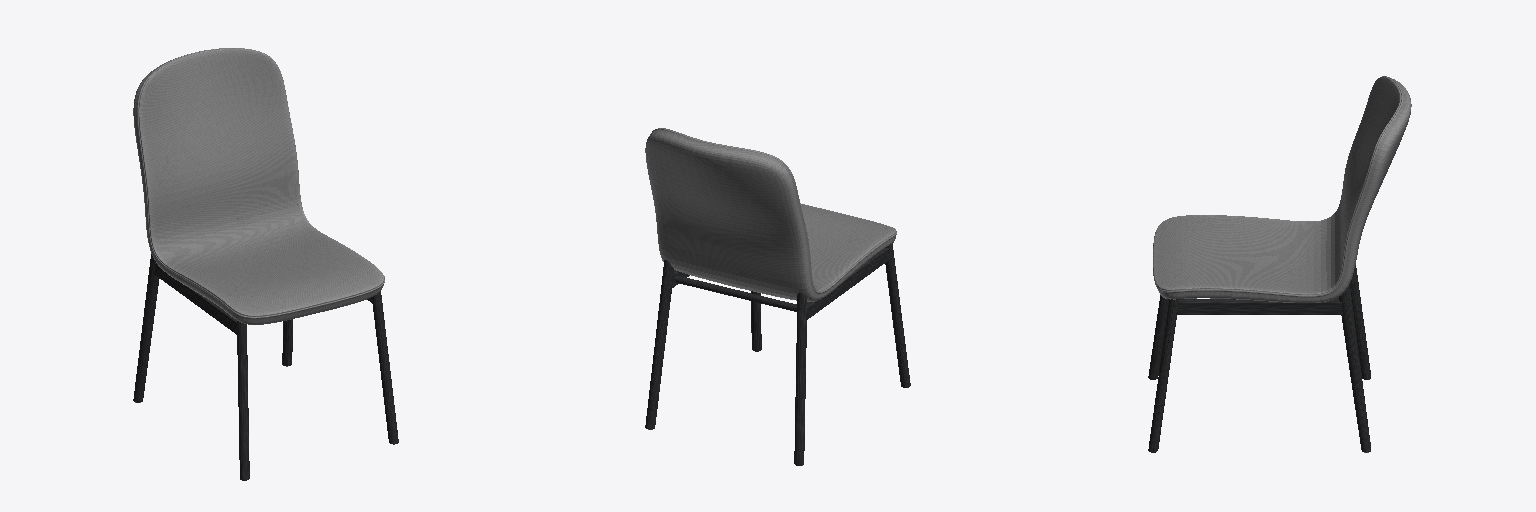
3 views of the same model, side by side, from view 1: azimuth 30°, elevation 25°; view 2: azimuth 150°, elevation 25°; view 3: azimuth 270°, elevation 25° (orthographic).
Visible parts, largest first — view 1: Plane, Circle_Circle.001, Cube; view 2: Plane, Circle_Circle.001, Cube; view 3: Plane, Circle_Circle.001, Cube.
Part boxes in pixels (bbox=[...]): Plane: bbox=[133, 48, 384, 324]; Circle_Circle.001: bbox=[133, 254, 398, 480]; Cube: bbox=[154, 263, 372, 334]; Plane: bbox=[645, 128, 896, 301]; Circle_Circle.001: bbox=[645, 243, 910, 465]; Cube: bbox=[672, 248, 889, 319]; Plane: bbox=[1153, 76, 1411, 302]; Circle_Circle.001: bbox=[1148, 265, 1370, 452]; Cube: bbox=[1176, 299, 1342, 314].
Size of the model in its own units: 0.5881 by 1.13 by 0.8506.
Materials: 1 (1 with a texture image).